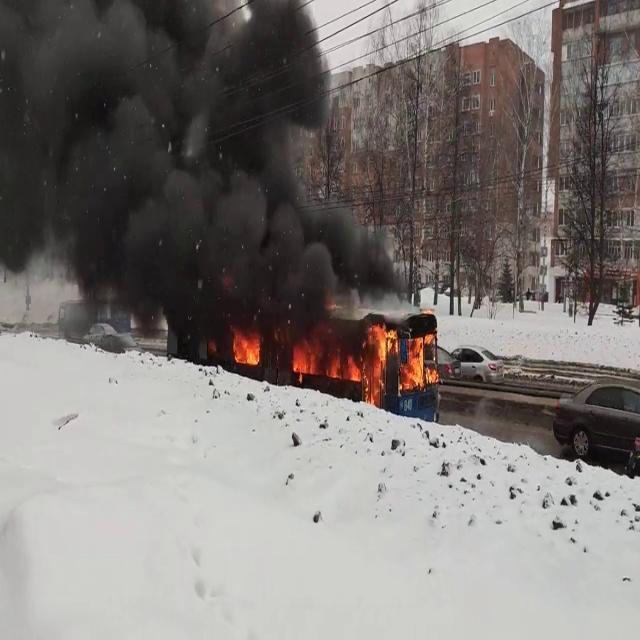Fire: (334, 316, 440, 396), (230, 326, 262, 371)
Smoke: (0, 0, 390, 345)
